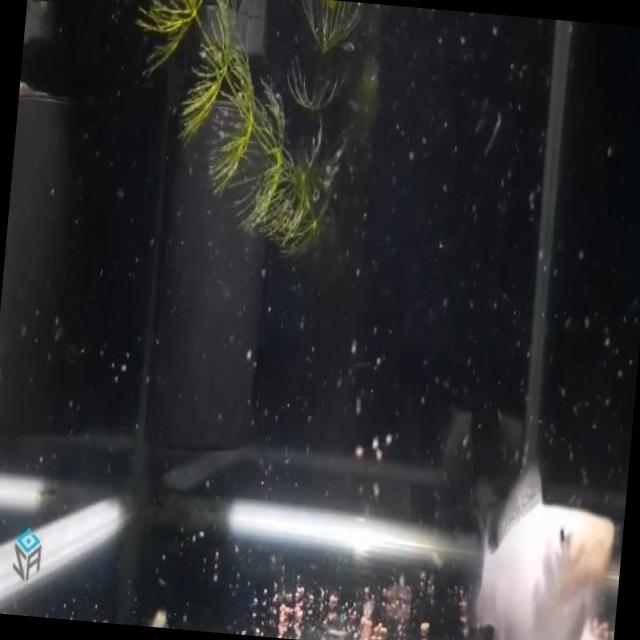PlatyFish: (446, 439, 626, 640)
